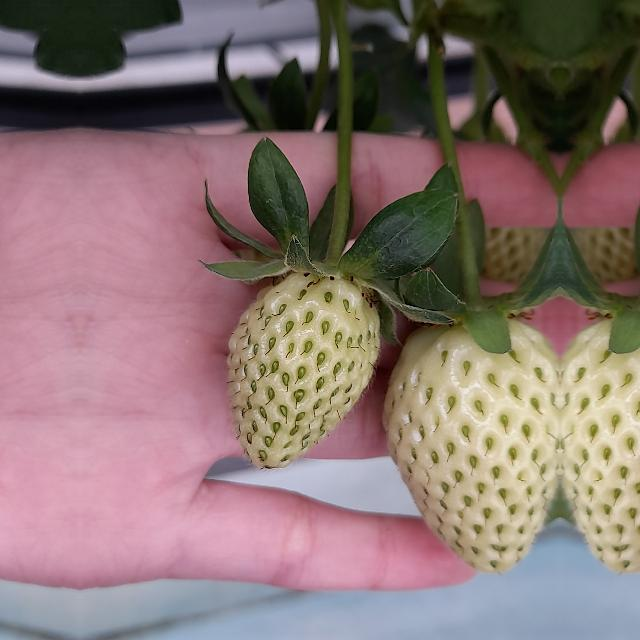Health_25: (383, 303, 559, 577), (226, 271, 380, 469), (561, 303, 640, 577)
